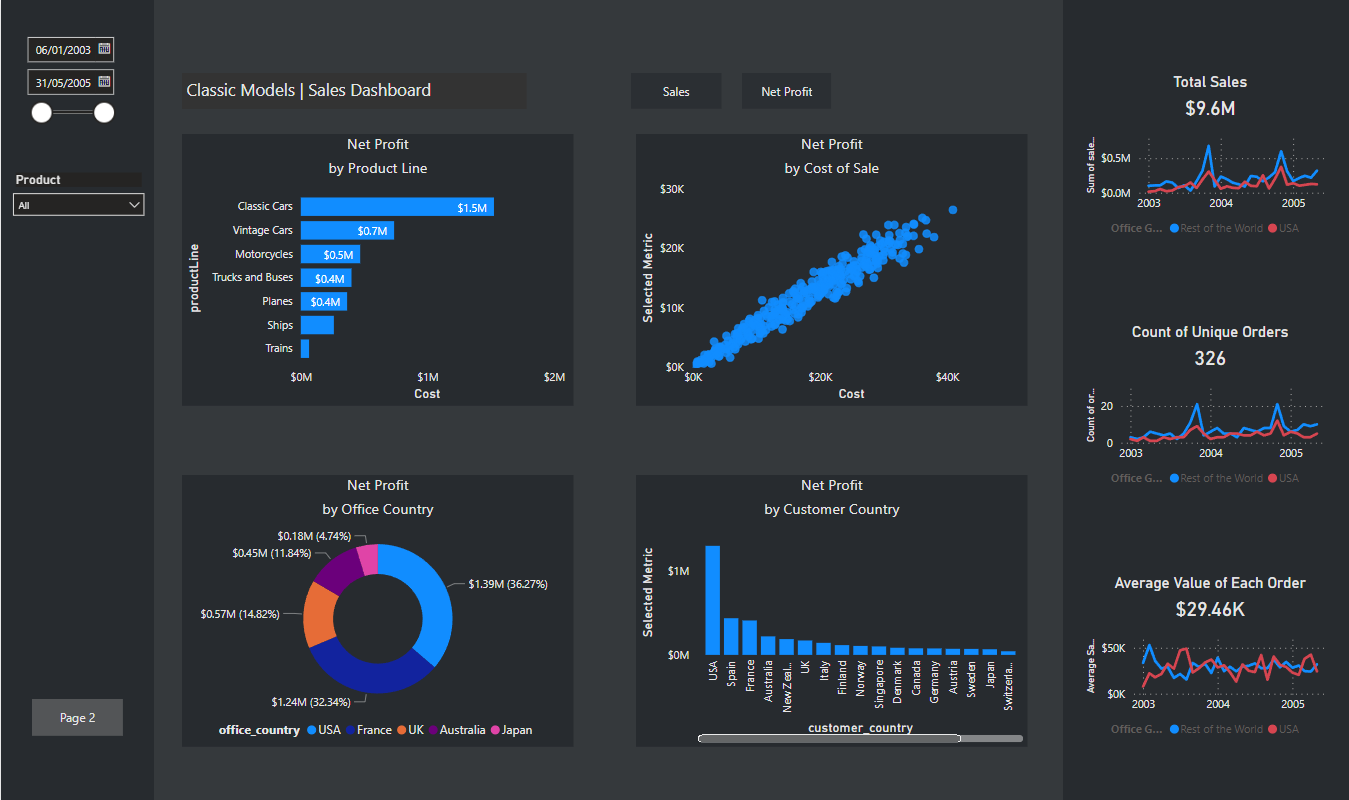

Layout of this report page (visuals, bound fields, positions):
{"tool":"powerbi","page":{"name":"Sales Overview - Page 1","canvas":[1500,900],"ordinal":0},"visuals":[{"type":"shape","box":[0,0,170,899.8],"z":0},{"type":"shape","box":[1180,0,320,899.8],"z":1000},{"type":"shape","box":[1200.5,80.9,280.2,180],"z":2000},{"type":"shape","box":[1200.5,359.3,280.2,180],"z":3000},{"type":"shape","box":[1200.5,637.8,280.2,180],"z":4000},{"type":"card","title":"Total Sales","fields":{"Values":["Sum(classicmodels sales_data_for_power_bi.sales_value)"]},"box":[1200.5,80.9,287,58.1],"z":5000},{"type":"card","title":"Count of Unique Orders","fields":{"Values":["Count(classicmodels sales_data_for_power_bi.ordernumber)"]},"box":[1200.5,358.8,287,58.1],"z":6000},{"type":"card","title":"Average Value of Each Order","fields":{"Values":["classicmodels sales_data_for_power_bi.Average Sales Value per Order"]},"box":[1200.5,637.8,287,58.1],"z":7000},{"type":"lineChart","fields":{"Y":["Sum(classicmodels sales_data_for_power_bi.sales_value)"],"Category":["classicmodels sales_data_for_power_bi.orderdate.Variation.Date Hierarchy.Year","classicmodels sales_data_for_power_bi.orderdate.Variation.Date Hierarchy.Quarter","classicmodels sales_data_for_power_bi.orderdate.Variation.Date Hierarchy.Month"],"Series":["classicmodels sales_data_for_power_bi.Office Grouped"]},"box":[1200.5,139,280.2,133.3],"z":8000},{"type":"lineChart","fields":{"Category":["classicmodels sales_data_for_power_bi.orderdate.Variation.Date Hierarchy.Year","classicmodels sales_data_for_power_bi.orderdate.Variation.Date Hierarchy.Quarter","classicmodels sales_data_for_power_bi.orderdate.Variation.Date Hierarchy.Month"],"Series":["classicmodels sales_data_for_power_bi.Office Grouped"],"Y":["Count(classicmodels sales_data_for_power_bi.ordernumber)"]},"box":[1200.5,416.9,280.2,133.3],"z":9000},{"type":"lineChart","fields":{"Category":["classicmodels sales_data_for_power_bi.orderdate.Variation.Date Hierarchy.Year","classicmodels sales_data_for_power_bi.orderdate.Variation.Date Hierarchy.Quarter","classicmodels sales_data_for_power_bi.orderdate.Variation.Date Hierarchy.Month"],"Series":["classicmodels sales_data_for_power_bi.Office Grouped"],"Y":["classicmodels sales_data_for_power_bi.Average Sales Value per Order"]},"box":[1200.5,695.9,280.2,133.3],"z":10000},{"type":"barChart","fields":{"Y":["Table.Selected Metric"],"Category":["classicmodels sales_data_for_power_bi.productLine"]},"box":[201.2,148.6,435.3,301.9],"z":11000},{"type":"actionButton","box":[699.7,80.7,100.6,39.8],"z":12000},{"type":"actionButton","box":[823.7,80.7,99.5,39.8],"z":13000},{"type":"donutChart","fields":{"Y":["Table.Selected Metric"],"Category":["classicmodels sales_data_for_power_bi.office_country"]},"box":[201.2,527.7,435.3,301.9],"z":15000},{"type":"scatterChart","fields":{"Category":["classicmodels sales_data_for_power_bi.ordernumber"],"Y":["Table.Selected Metric"],"X":["Sum(classicmodels sales_data_for_power_bi.cost_of_sales)"]},"box":[705.5,148.6,435.3,301.9],"z":16000},{"type":"columnChart","fields":{"Y":["Table.Selected Metric"],"Category":["classicmodels sales_data_for_power_bi.customer_country"]},"box":[705.5,527.7,435.3,301.9],"z":17000},{"type":"textbox","box":[201.2,80.7,382.6,39.8],"z":18000},{"type":"actionButton","box":[34.9,777.1,101,40.9],"z":18001},{"type":"slicer","fields":{"Values":["classicmodels sales_data_for_power_bi.orderdate"]},"box":[16.8,31.3,119.1,138.3],"z":18002},{"type":"slicer","fields":{"Values":["classicmodels sales_data_for_power_bi.productname"]},"box":[3.6,186.4,166,150.4],"z":18003}]}

Visuals, with their boxes on the page's 1500x900 design canvas (x1, y1, x2, y2). These are canvas units, not pixel positions in the 1349x800 screenshot, which may show the page scaled, cropped or inside an application window:
shape: box=[0, 0, 170, 900]
shape: box=[1180, 0, 1500, 900]
shape: box=[1200, 81, 1481, 261]
shape: box=[1200, 359, 1481, 539]
shape: box=[1200, 638, 1481, 818]
"Total Sales" card: box=[1200, 81, 1488, 139]
"Count of Unique Orders" card: box=[1200, 359, 1488, 417]
"Average Value of Each Order" card: box=[1200, 638, 1488, 696]
lineChart - Sum(classicmodels sales_data_for_power_bi.sales_value) x classicmodels sales_data_for_power_bi.orderdate.Variation.Date Hierarchy.Year: box=[1200, 139, 1481, 272]
lineChart - classicmodels sales_data_for_power_bi.orderdate.Variation.Date Hierarchy.Year x classicmodels sales_data_for_power_bi.orderdate.Variation.Date Hierarchy.Quarter: box=[1200, 417, 1481, 550]
lineChart - classicmodels sales_data_for_power_bi.orderdate.Variation.Date Hierarchy.Year x classicmodels sales_data_for_power_bi.orderdate.Variation.Date Hierarchy.Quarter: box=[1200, 696, 1481, 829]
barChart - Table.Selected Metric x classicmodels sales_data_for_power_bi.productLine: box=[201, 149, 636, 450]
actionButton: box=[700, 81, 800, 120]
actionButton: box=[824, 81, 923, 120]
donutChart - Table.Selected Metric x classicmodels sales_data_for_power_bi.office_country: box=[201, 528, 636, 830]
scatterChart - classicmodels sales_data_for_power_bi.ordernumber x Table.Selected Metric: box=[706, 149, 1141, 450]
columnChart - Table.Selected Metric x classicmodels sales_data_for_power_bi.customer_country: box=[706, 528, 1141, 830]
textbox: box=[201, 81, 584, 120]
actionButton: box=[35, 777, 136, 818]
slicer - classicmodels sales_data_for_power_bi.orderdate: box=[17, 31, 136, 170]
slicer - classicmodels sales_data_for_power_bi.productname: box=[4, 186, 170, 337]
